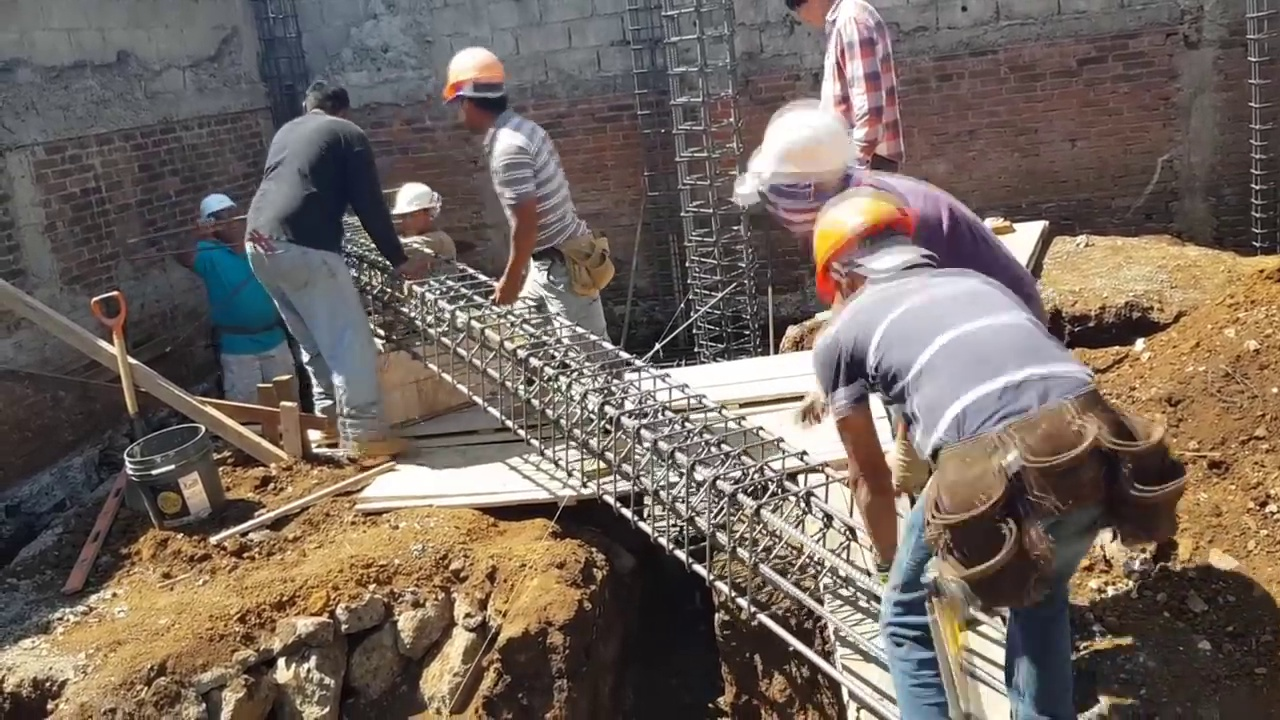helmet: (810, 194, 915, 313), (741, 98, 856, 188), (443, 44, 510, 103), (388, 184, 435, 224), (197, 196, 237, 228)
helmet-off: (296, 78, 342, 120), (783, 0, 839, 34)
helmet-on: (728, 94, 858, 237), (811, 191, 948, 312), (443, 44, 509, 133), (198, 194, 248, 254), (388, 184, 442, 236)
person: (811, 190, 1133, 720), (727, 91, 1053, 333), (444, 41, 616, 427), (248, 75, 410, 459), (188, 194, 302, 427), (784, 0, 903, 172), (387, 183, 457, 272)
